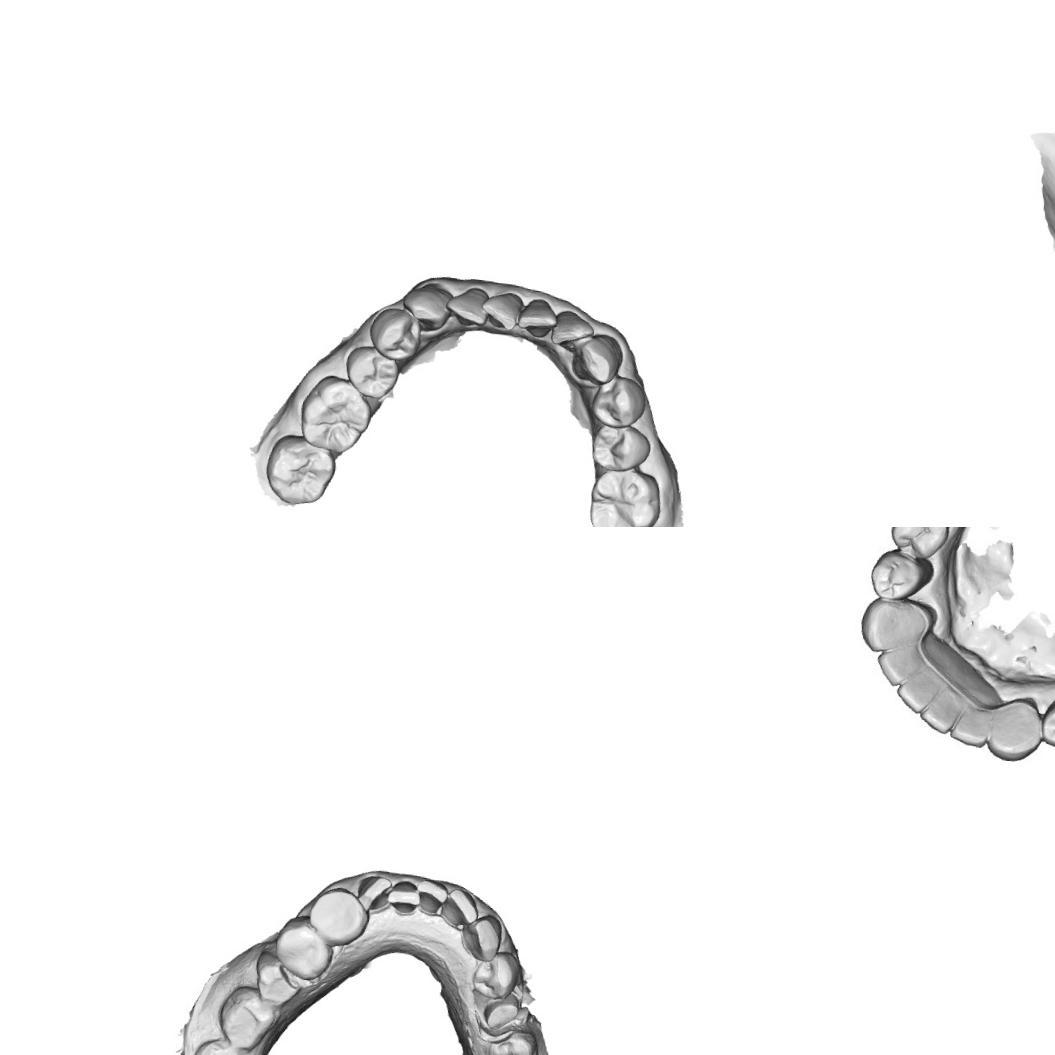canine: (304, 883, 370, 950), (983, 694, 1044, 766), (861, 594, 933, 654), (568, 330, 626, 388), (398, 279, 454, 336), (459, 910, 507, 964)
crown: (480, 987, 526, 1032)
incisor: (442, 282, 491, 330), (947, 698, 992, 750), (894, 670, 942, 716), (548, 307, 598, 351), (878, 644, 928, 688), (438, 884, 482, 932), (353, 860, 392, 914), (478, 288, 524, 332), (515, 295, 559, 340), (918, 690, 961, 736), (412, 873, 450, 918), (386, 875, 423, 917)
molar: (295, 371, 376, 457), (261, 431, 339, 510), (583, 464, 664, 527), (213, 981, 282, 1054), (483, 1024, 544, 1055), (184, 1033, 250, 1055)
premolar: (269, 910, 337, 984), (364, 304, 426, 364), (588, 372, 650, 432), (588, 421, 654, 476), (341, 343, 402, 402), (247, 948, 300, 1009), (869, 548, 930, 600), (469, 948, 522, 1002), (885, 527, 953, 560), (1039, 690, 1055, 757)
